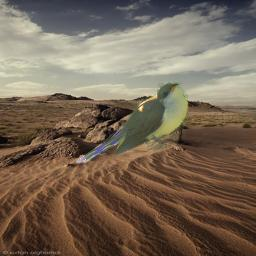Cuckoo: (74, 82, 188, 163)
